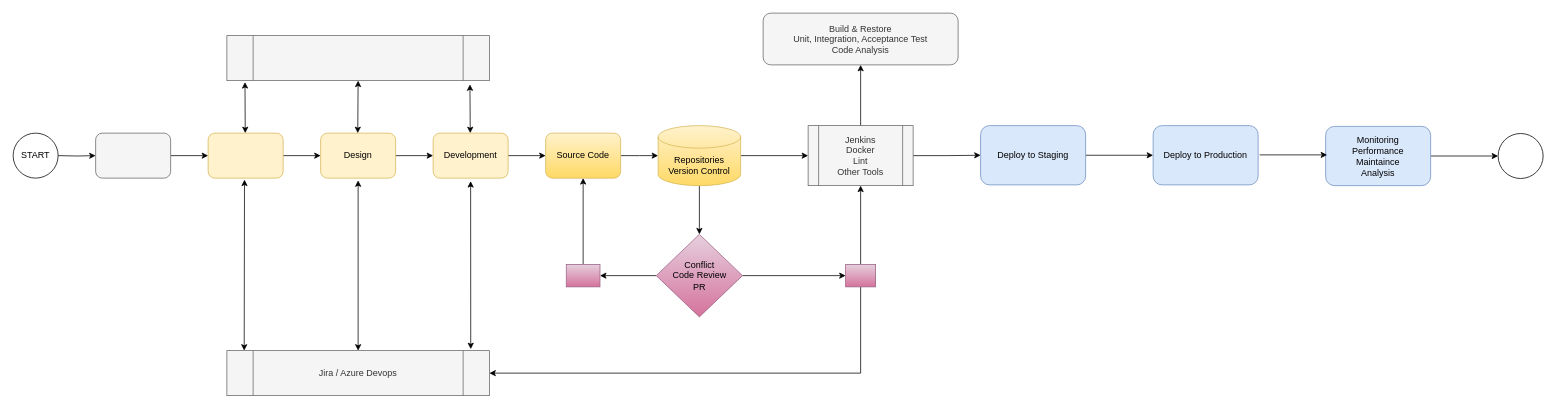
Some shapes in this 1556 by 409 pixel diagram are drawn without their labels. Each missing label, with the box of its shape:
Analysis: (207, 132, 283, 178)
END: (1497, 133, 1543, 178)
invalid: (566, 264, 600, 287)
Stakeholders Research Requierements: (95, 132, 171, 178)
Tools / Dependencies / Frameworks: (226, 35, 489, 81)
valid: (845, 264, 876, 287)
